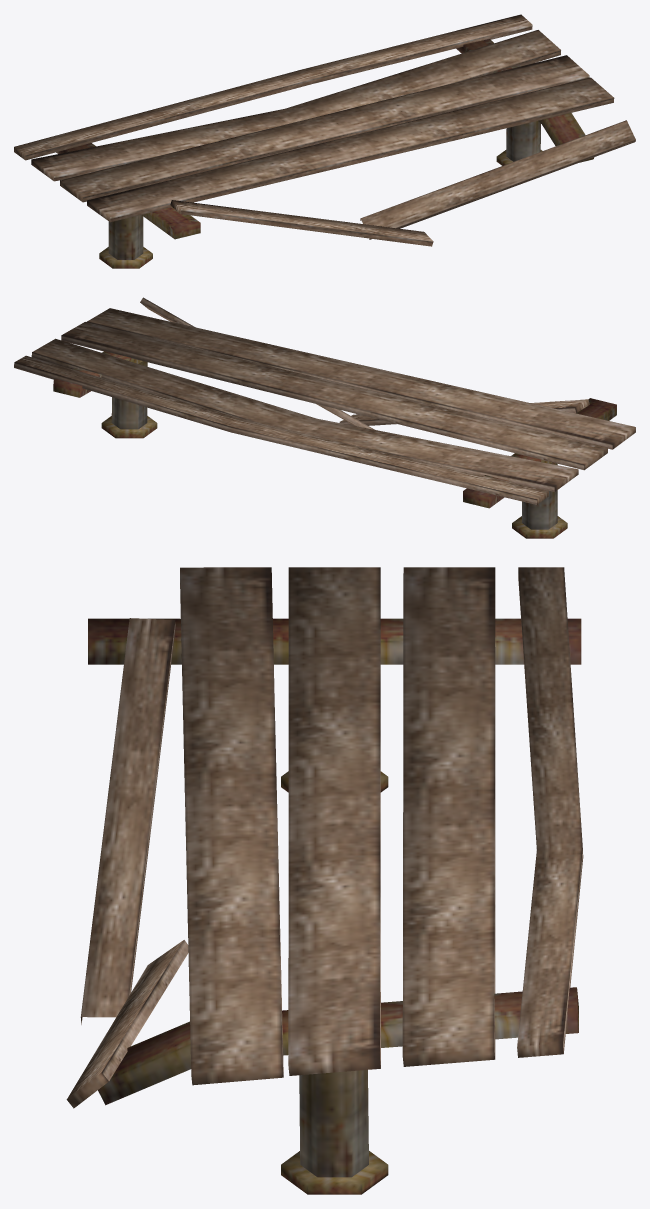
Rendered from Bench.obj.
The picture shows the model from 3 angles, top to bottom: view 1: azimuth 30°, elevation 25°; view 2: azimuth 150°, elevation 25°; view 3: azimuth 270°, elevation 25°; orthographic projection. The views are drawn at different scales.
Visible parts, largest first — view 1: Bench; view 2: Bench; view 3: Bench.
Part boxes in pixels (x1=…): Bench: x1=14, y1=14, x2=635, y2=268; Bench: x1=14, y1=297, x2=635, y2=538; Bench: x1=66, y1=567, x2=583, y2=1194.
Bounding box in the file's own units: 10.21 × 1.79 × 4.5.
